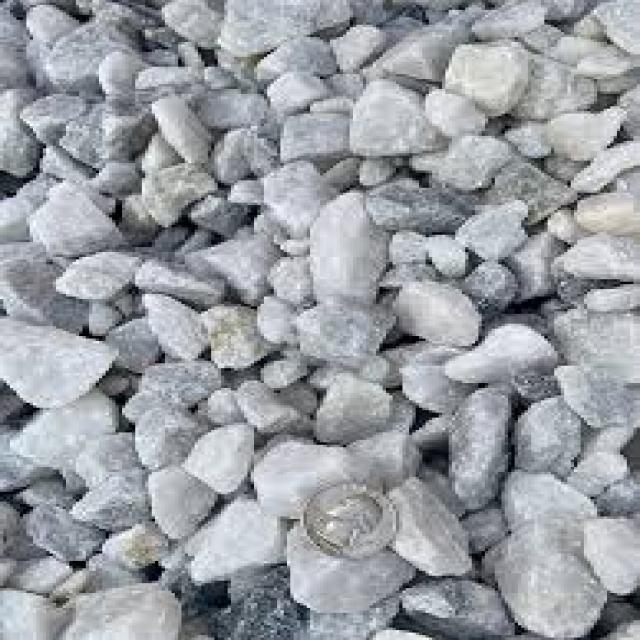Metamorphic: (4, 2, 634, 632)
